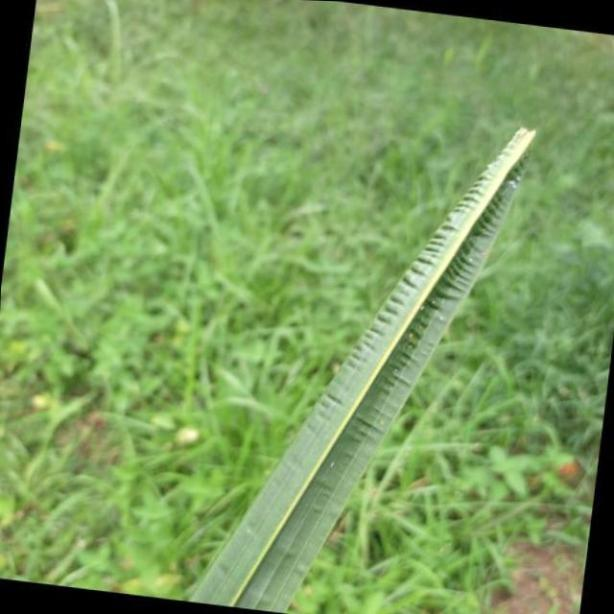Boron: (182, 94, 542, 608)
